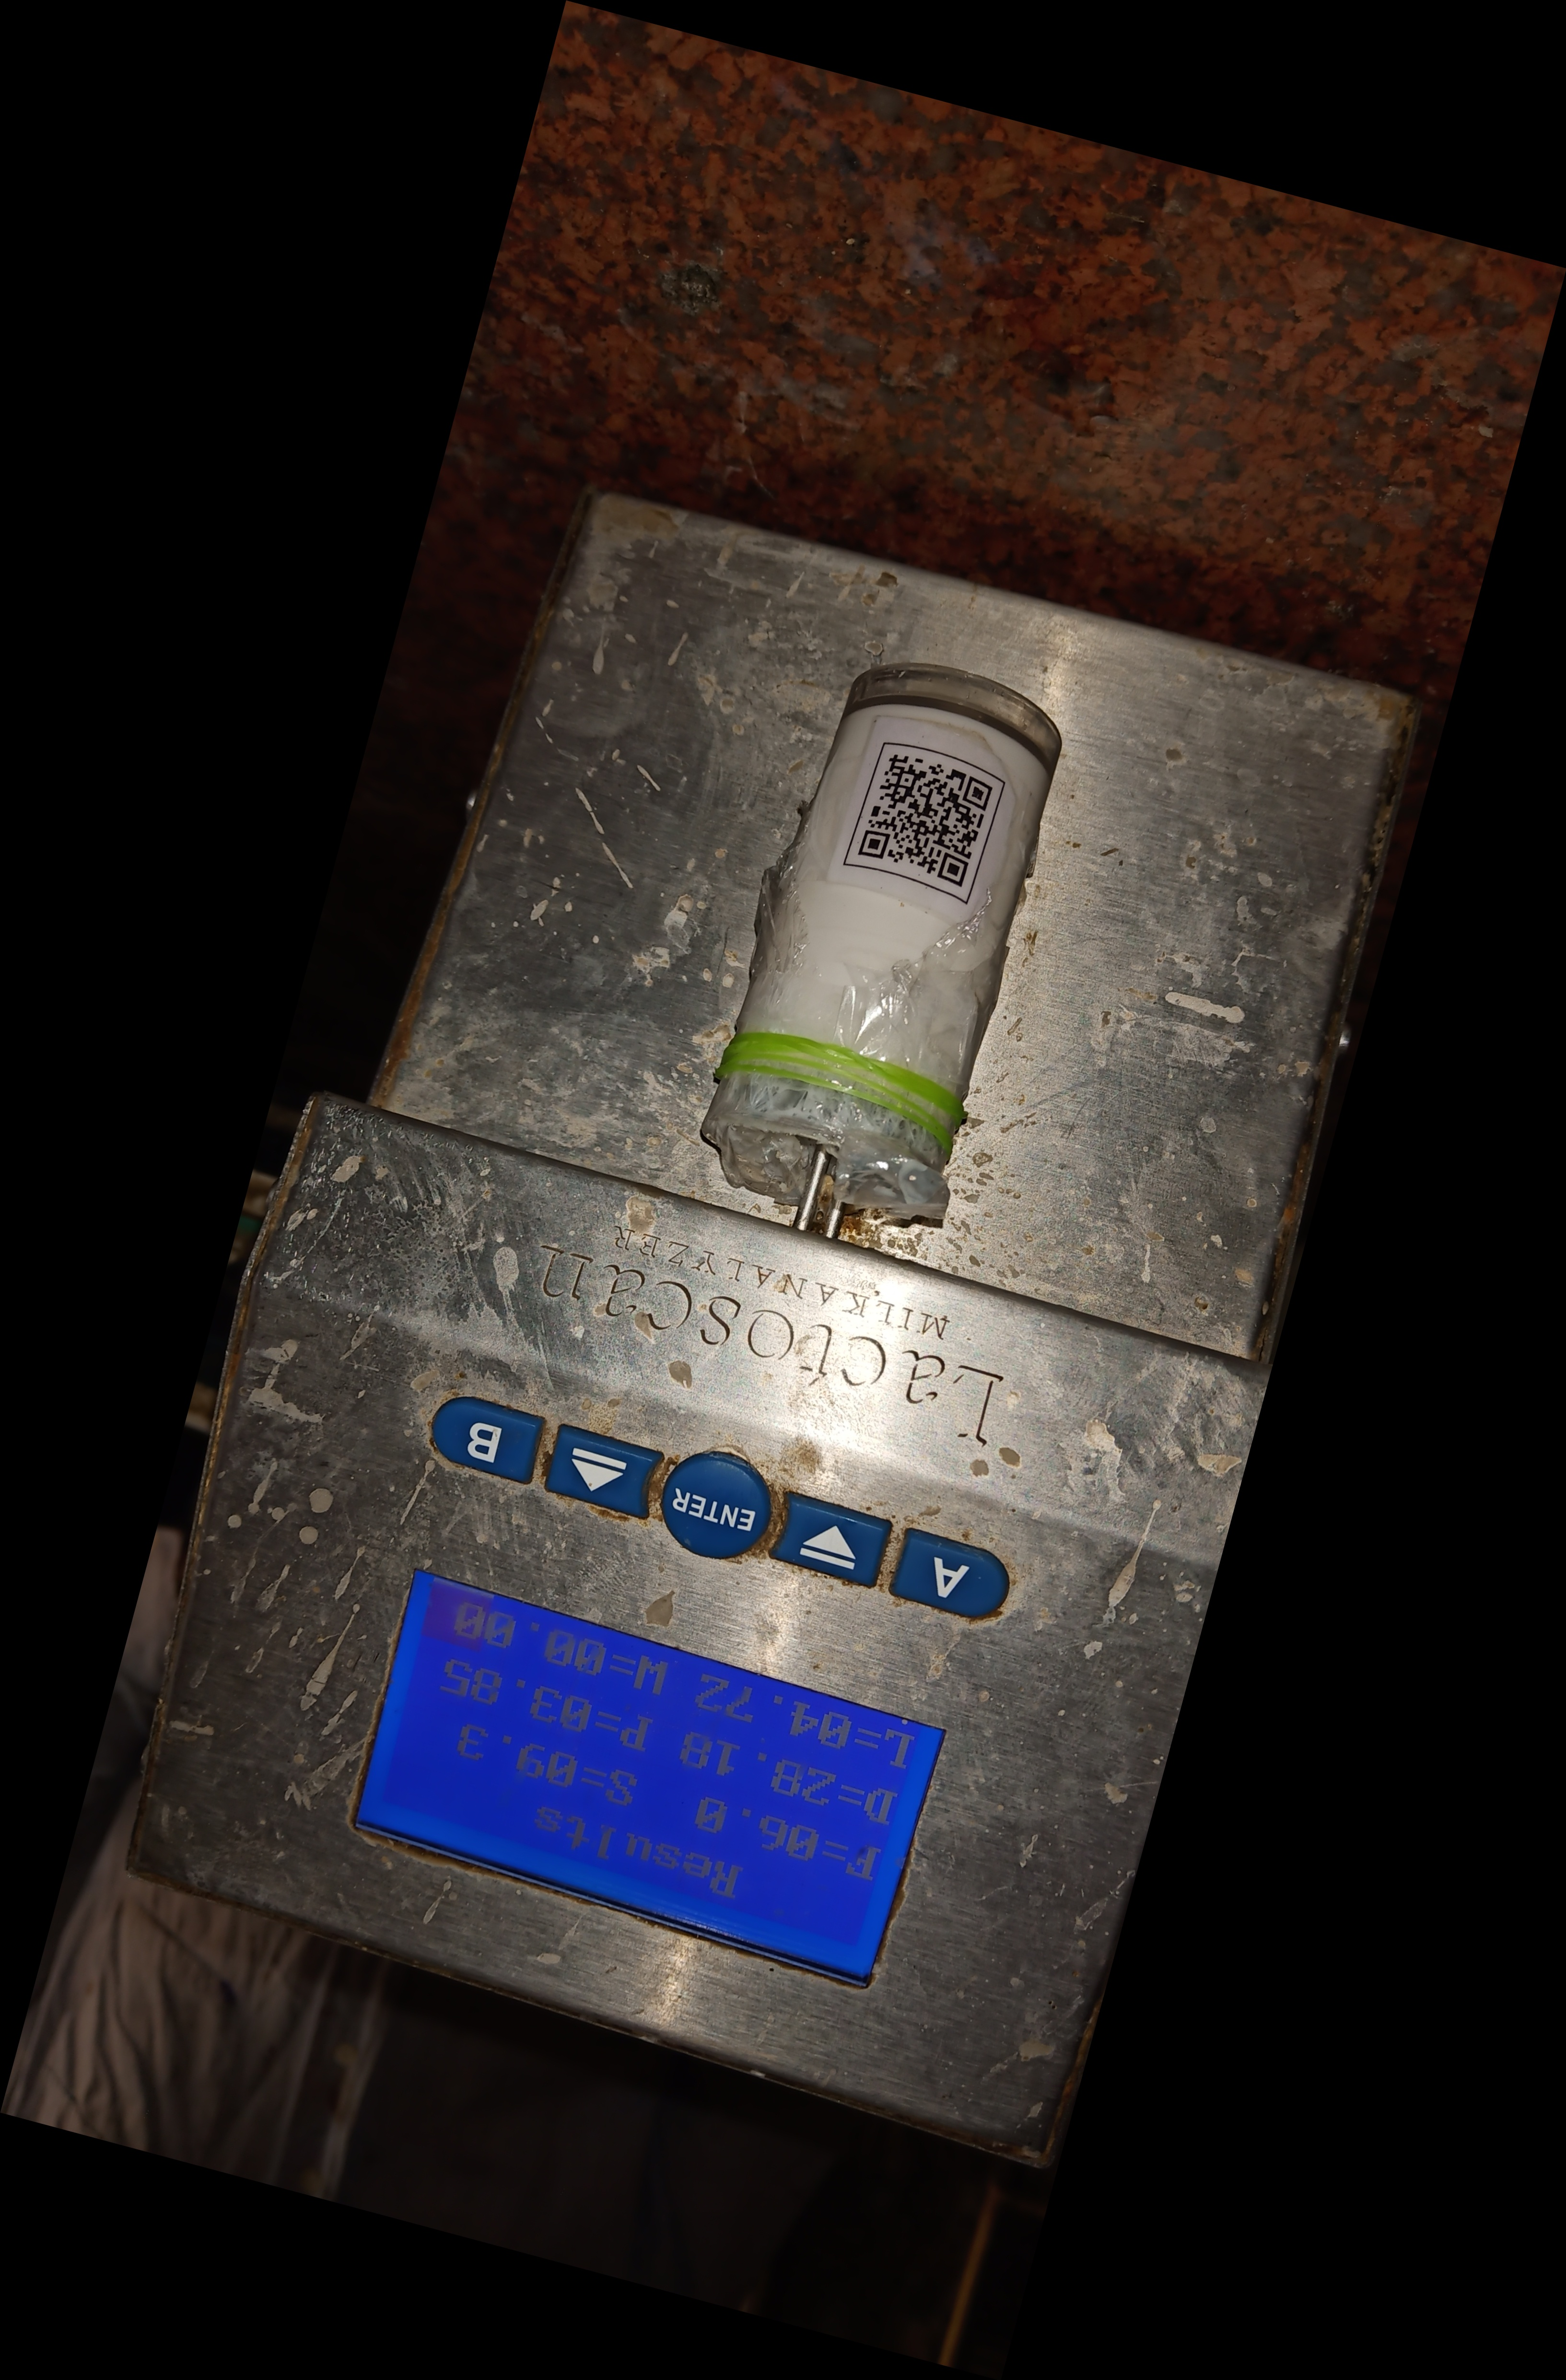lcd: (294, 1559, 961, 2050)
qr: (835, 732, 1021, 910)
